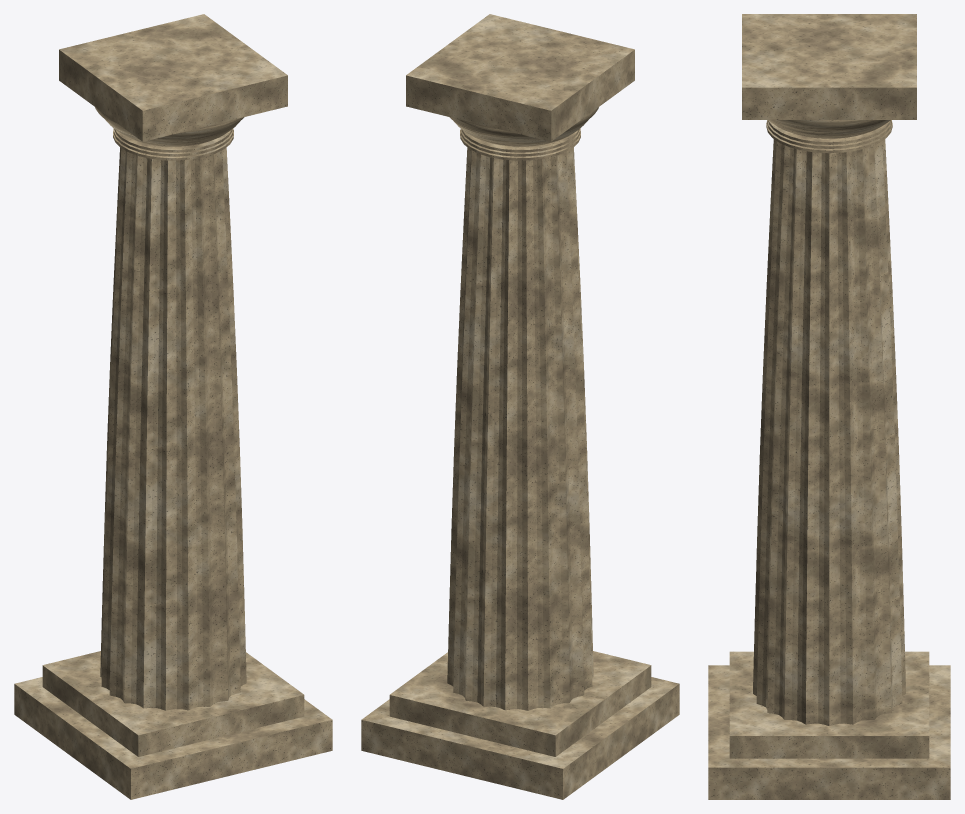
The model's file is colonna_dorica_intera.gltf.
The picture shows the model from 3 angles, left to right: view 1: azimuth 30°, elevation 25°; view 2: azimuth 150°, elevation 25°; view 3: azimuth 270°, elevation 25°; orthographic projection. The views are drawn at different scales.
Visible parts, largest first — view 1: colonna_dorica_intera; view 2: colonna_dorica_intera; view 3: colonna_dorica_intera.
Part boxes in pixels (x1,y1,x2,y2): colonna_dorica_intera: (14,14,332,799); colonna_dorica_intera: (361,14,679,799); colonna_dorica_intera: (708,14,950,799).
Bounding box in the file's own units: 1.36 × 4.32 × 1.36.
1 material, 1 textured.
